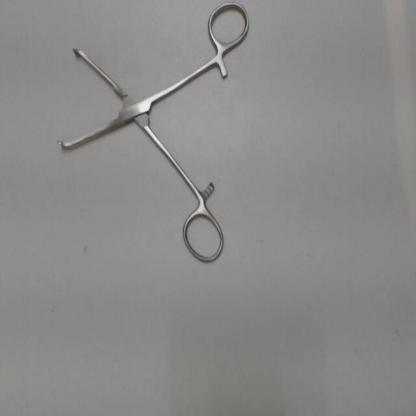Allis Tissue Forceps: (54, 2, 254, 266)
